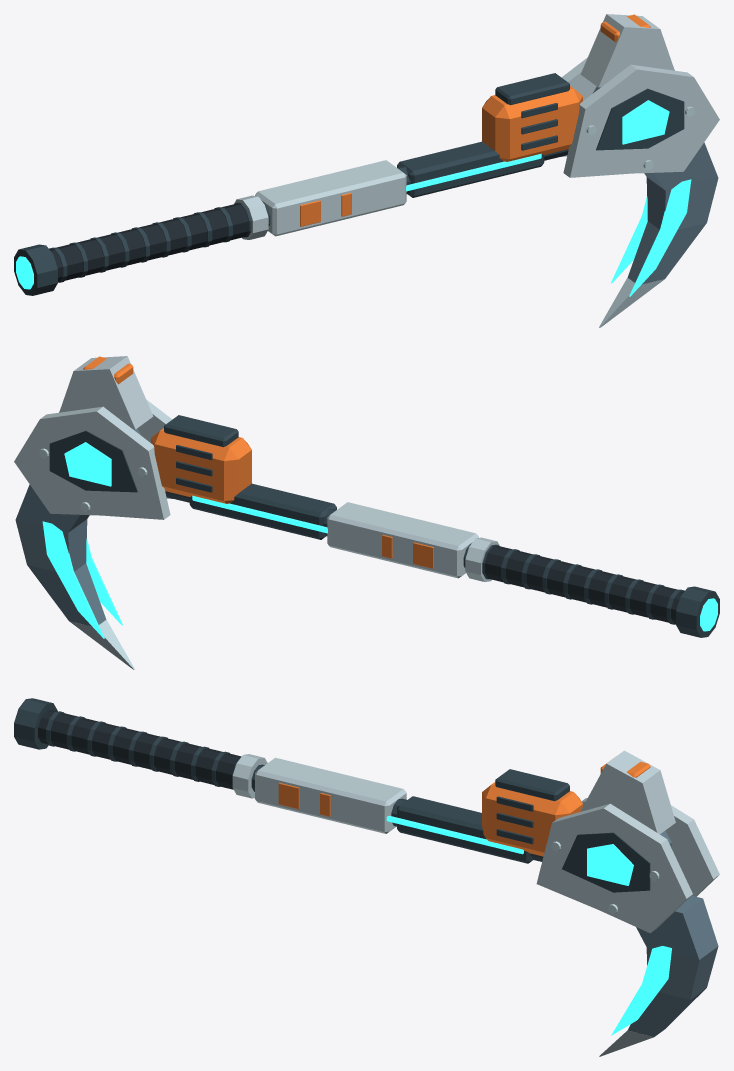
The model's file is SM_MiningPickaxe.fbx.
3 renders of one model, top to bottom at view 1: azimuth 30°, elevation 25°; view 2: azimuth 150°, elevation 25°; view 3: azimuth 330°, elevation 25°, orthographic.
Parts seen in each view (by area): view 1: SM_MiningPickaxe; view 2: SM_MiningPickaxe; view 3: SM_MiningPickaxe.
Boxes of the visible parts, x1,y1,x2,y2 form: SM_MiningPickaxe: (14, 14, 719, 327); SM_MiningPickaxe: (14, 356, 719, 669); SM_MiningPickaxe: (14, 698, 719, 1056).
Size of the model in its own units: 132 by 12.4 by 56.
